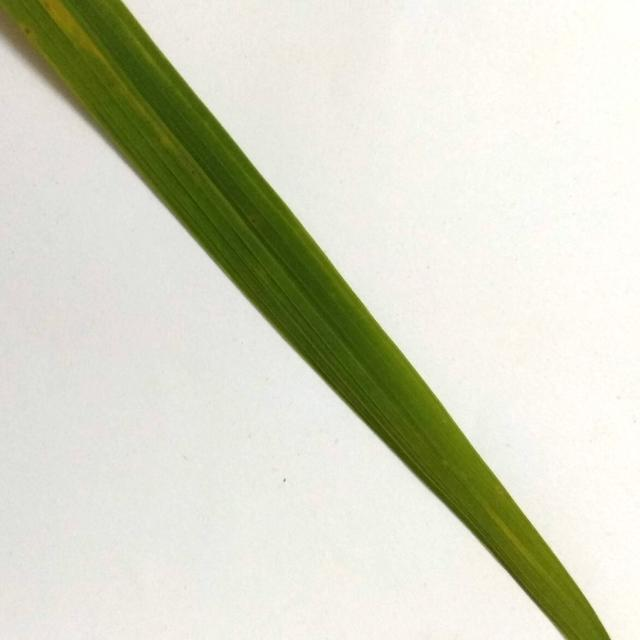Rice_Healthy: (2, 0, 610, 640)
